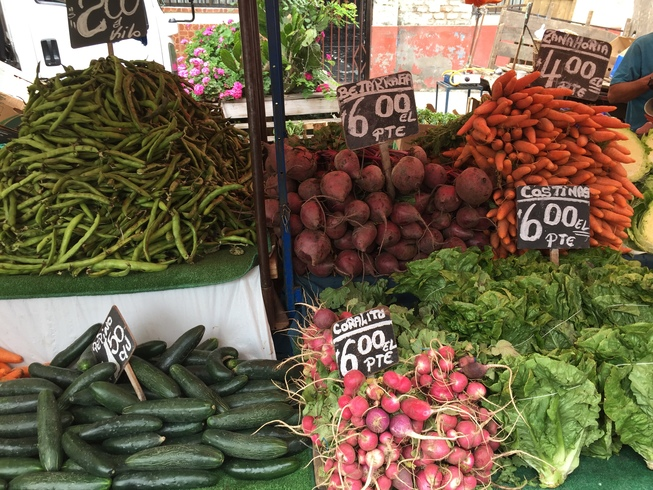precio: (328, 65, 425, 161), (524, 22, 614, 118), (516, 180, 600, 262), (326, 305, 408, 388), (85, 307, 149, 389), (68, 1, 145, 51)
